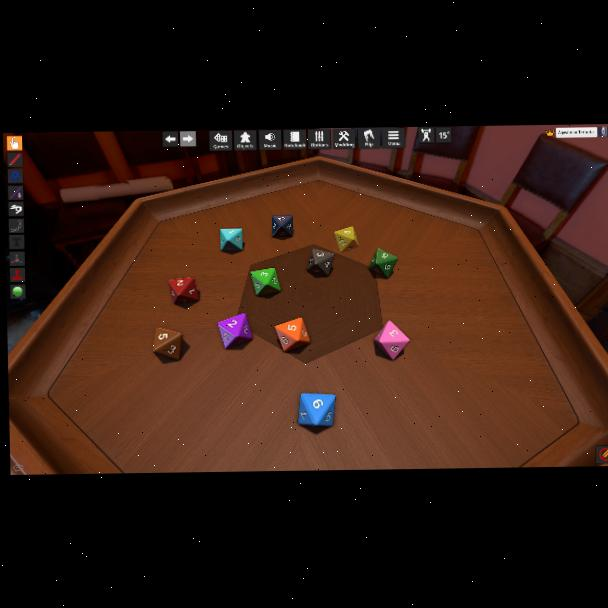d8: (375, 321, 411, 360), (298, 393, 337, 428), (275, 317, 310, 353), (217, 314, 250, 349), (152, 327, 183, 362), (168, 276, 199, 305), (368, 249, 398, 278), (306, 249, 334, 278), (250, 268, 279, 296), (334, 226, 357, 252), (219, 229, 242, 253), (271, 215, 293, 239)
